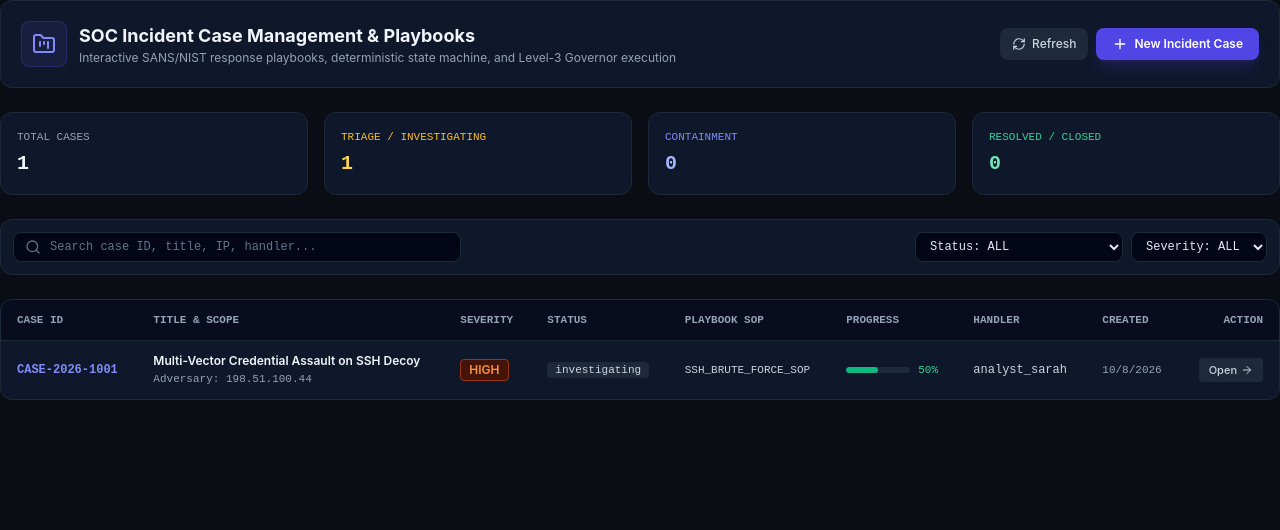
Test: Module 3.6 Frontend: Case Management & Playbooks › filters cases by search query
Expected: the text "CASE-2026-1001" is shown, [1, 340, 137, 398]
Type "NON_EXISTENT_CASE" into the field with placeholder "Search case ID, title, IP, handler..." at [237, 246], box [13, 232, 461, 262]
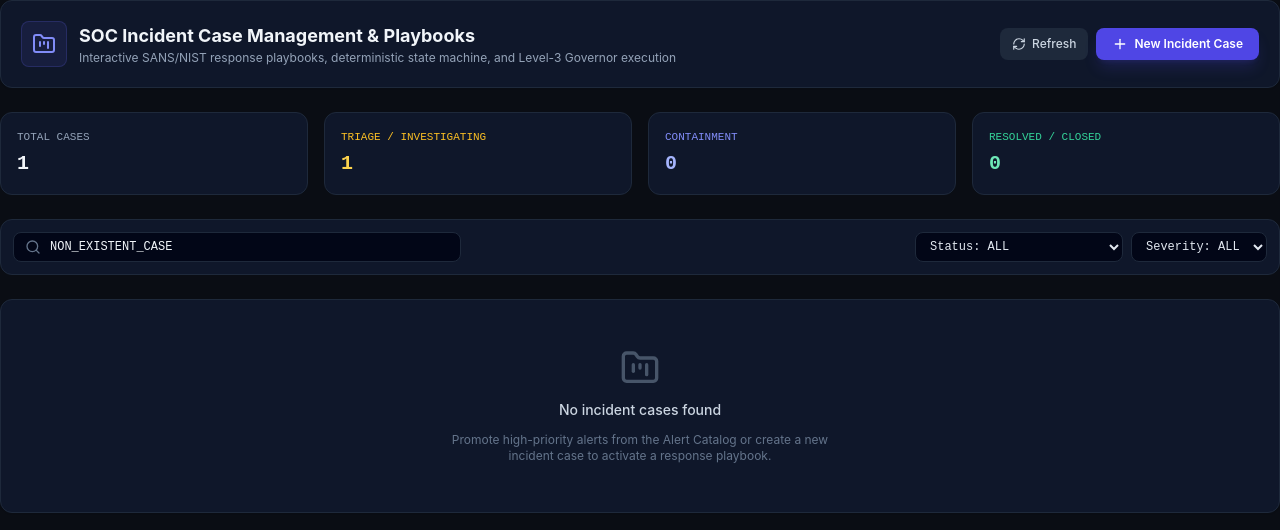
Expected: the text "CASE-2026-1001" is gone
Expected: the text "No incident cases found" is shown, [559, 400, 721, 418]
